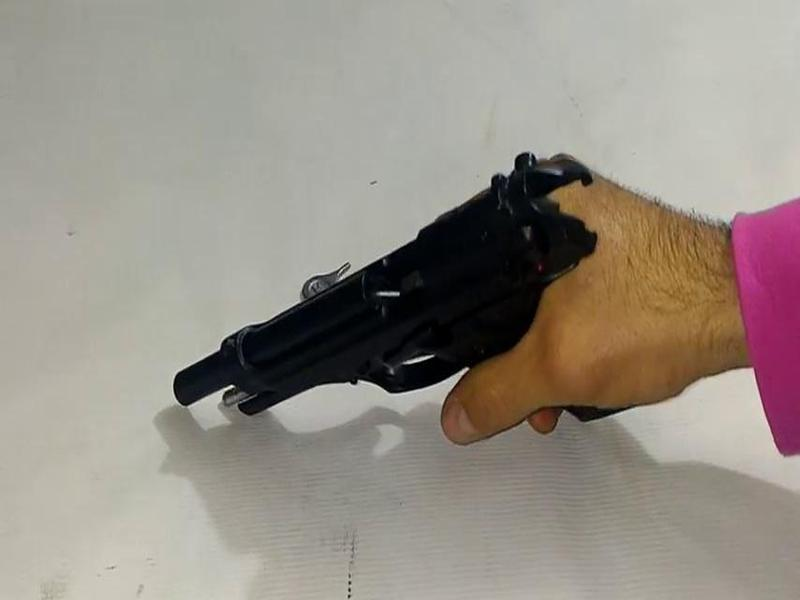Pistola: (149, 104, 644, 505)
